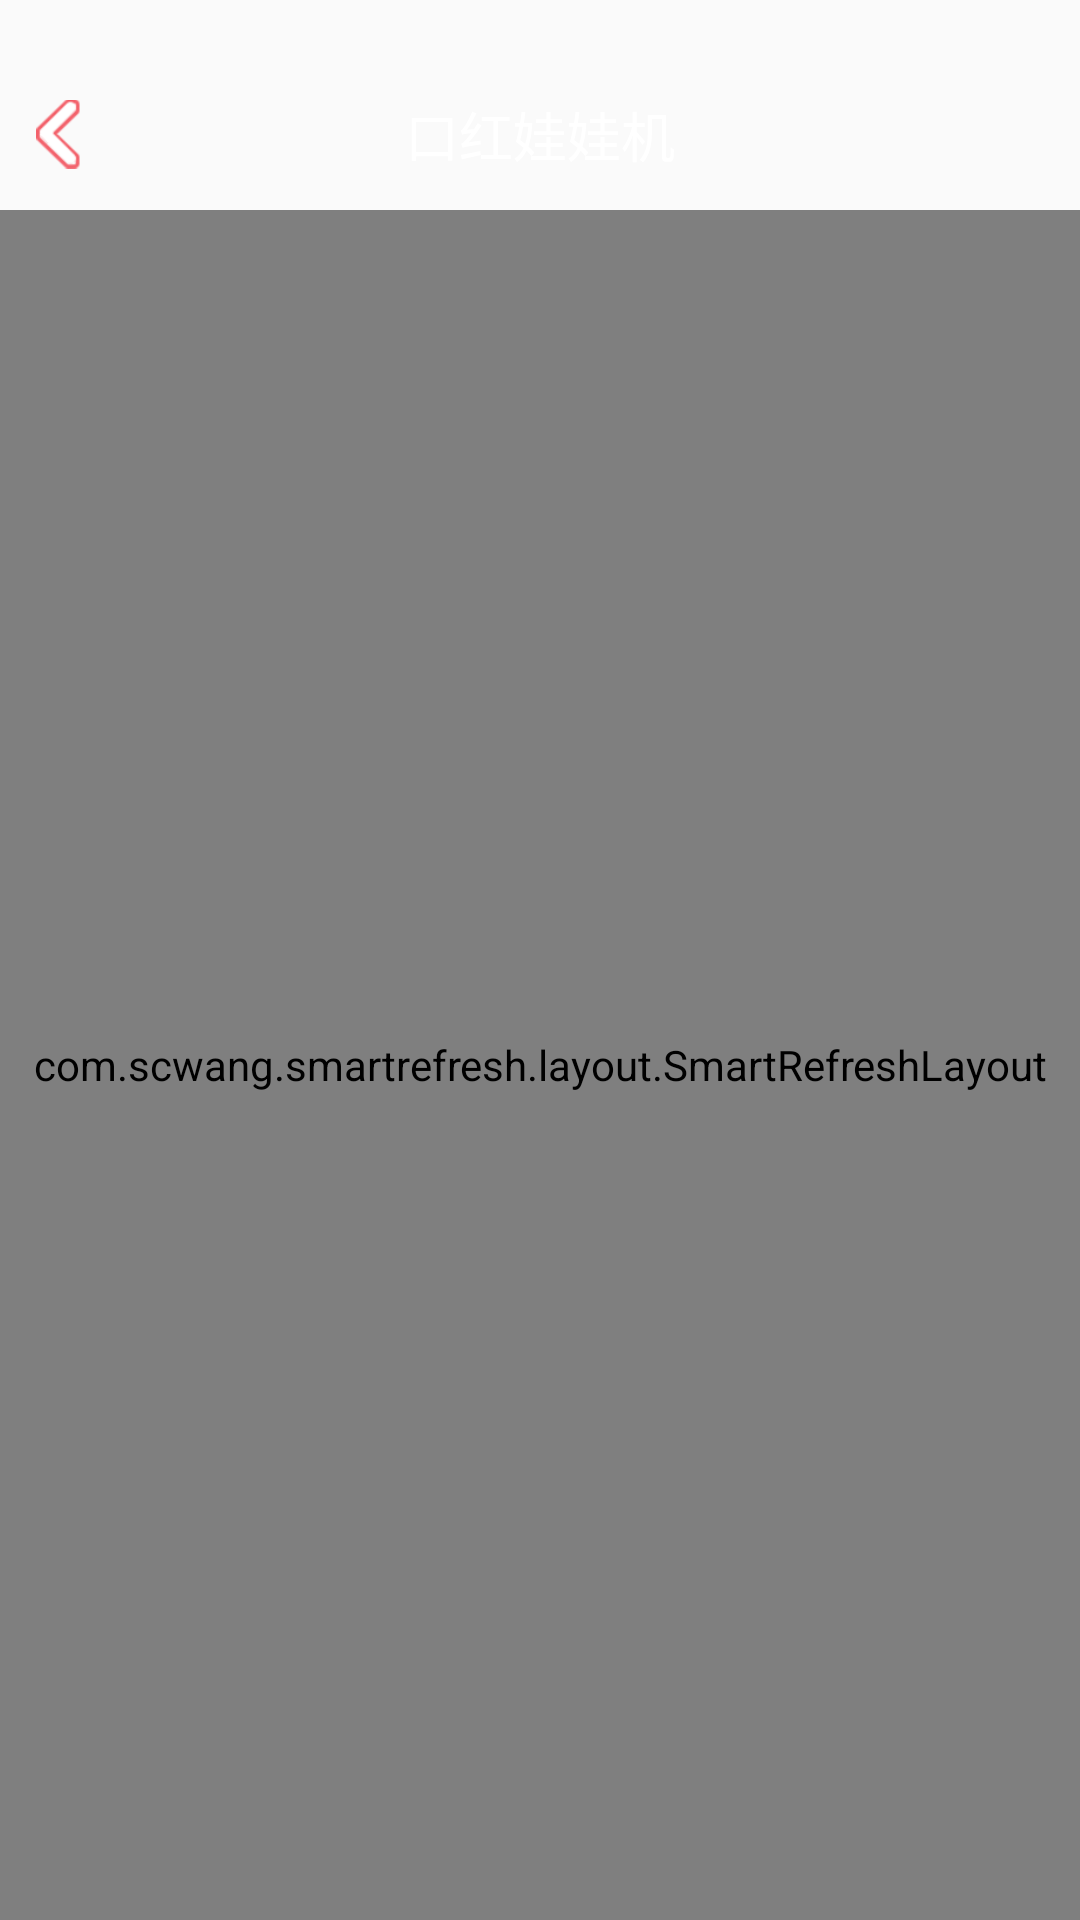

Icons on this 1080px x 1920px Android screen, each with its box as rect(x1, y1, x2, y2):
player back: rect(36, 100, 80, 169)
